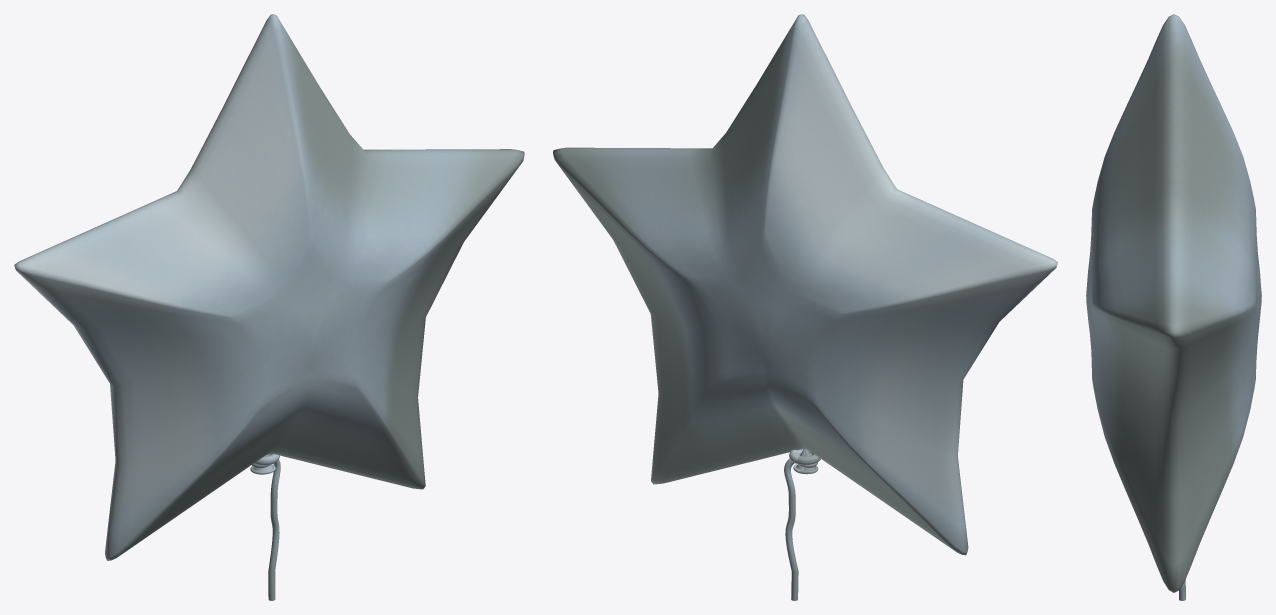
File: Star_Balloon_Remastered.FBX
The picture shows the model from 3 angles, left to right: view 1: azimuth 30°, elevation 25°; view 2: azimuth 150°, elevation 25°; view 3: azimuth 270°, elevation 25°; orthographic projection.
Parts seen in each view (by area): view 1: SilverStar; view 2: SilverStar; view 3: SilverStar.
Boxes of the visible parts, left/top/right/bottom form: SilverStar: left=14, top=14, right=524, bottom=600; SilverStar: left=553, top=14, right=1057, bottom=600; SilverStar: left=1086, top=14, right=1261, bottom=600.
Bounding box in the file's own units: 9.32 × 10.29 × 2.8.
